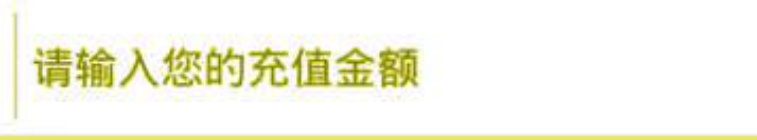EditText: (1, 1, 756, 139)
